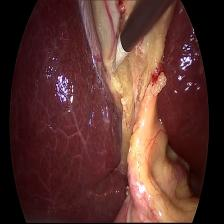Hook: (110, 30, 132, 80)
